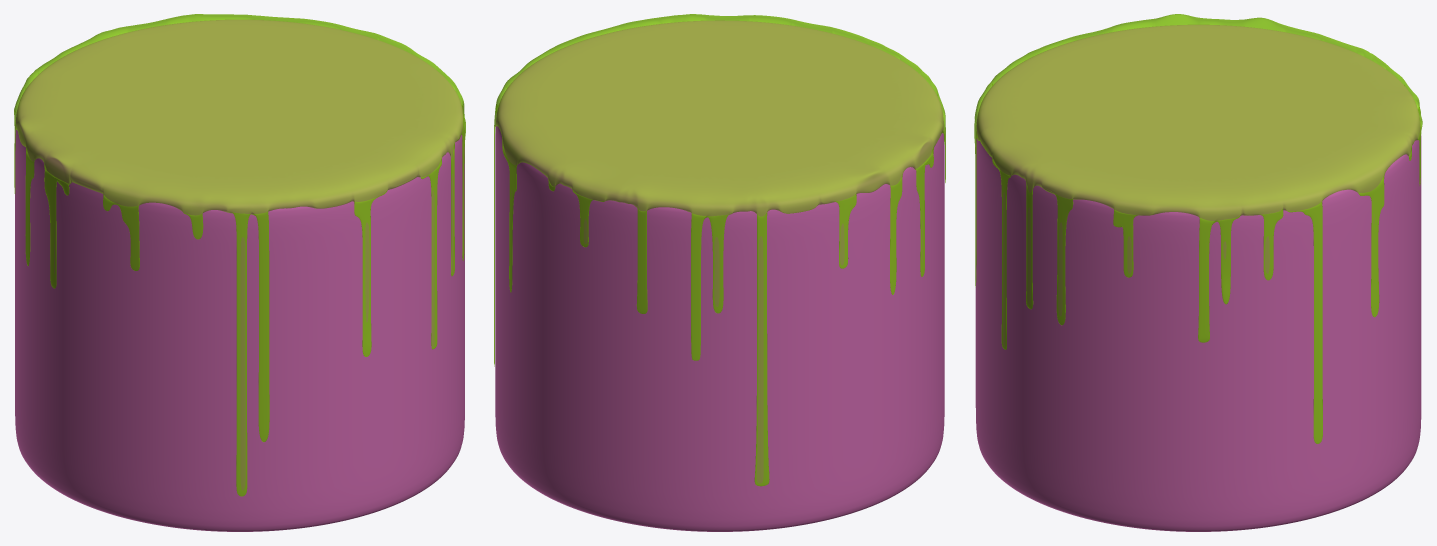
File: Cake_Layer_1_Pink_GreenDrip.glb
3 views of the same model, side by side, from view 1: azimuth 30°, elevation 25°; view 2: azimuth 150°, elevation 25°; view 3: azimuth 270°, elevation 25° (orthographic).
Parts seen in each view (by area): view 1: Circle, Circle.001; view 2: Circle, Circle.001; view 3: Circle, Circle.001.
Boxes of the visible parts, left/top/right/bottom form: Circle: left=15, top=20, right=464, bottom=531; Circle.001: left=14, top=14, right=465, bottom=496; Circle: left=495, top=20, right=944, bottom=531; Circle.001: left=494, top=14, right=945, bottom=486; Circle: left=975, top=25, right=1421, bottom=531; Circle.001: left=974, top=14, right=1422, bottom=443.
Size of the model in its own units: 0.1501 by 0.1237 by 0.1499.
